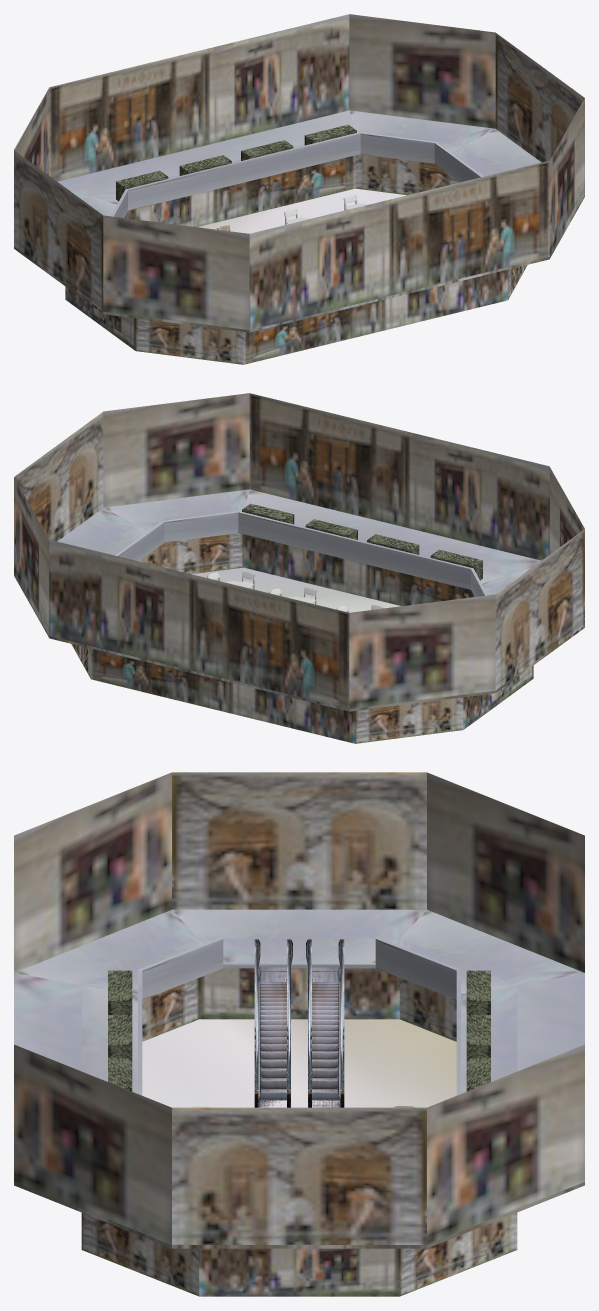
File: blartmall.fbx
3 renders of one model, top to bottom at view 1: azimuth 30°, elevation 25°; view 2: azimuth 150°, elevation 25°; view 3: azimuth 270°, elevation 25°, orthographic. The views are drawn at different scales.
Parts seen in each view (by area): view 1: Plane, Cube, Cube.007, Cube.001, Cube.004; view 2: Plane, Cube.005, Cube.006, Cube.002, Cube.003; view 3: Plane, Plane.002, Plane.001, Cube, Cube.005, Cube.001, Cube.002, Cube.003, Cube.004.
Part boxes in pixels (x1,y1,x2,y2): Plane: [14, 14, 584, 364]; Cube: [116, 170, 168, 201]; Cube.007: [304, 124, 356, 145]; Cube.001: [179, 155, 231, 175]; Cube.004: [241, 140, 293, 160]; Plane: [14, 393, 584, 743]; Cube.005: [430, 549, 482, 580]; Cube.006: [242, 503, 294, 524]; Cube.002: [367, 534, 419, 554]; Cube.003: [305, 519, 357, 539]; Plane: [14, 772, 584, 1296]; Plane.002: [306, 939, 344, 1107]; Plane.001: [254, 939, 292, 1107]; Cube: [466, 970, 490, 1014]; Cube.005: [108, 970, 132, 1014]; Cube.001: [466, 1015, 490, 1057]; Cube.002: [108, 1015, 132, 1057]; Cube.003: [108, 1057, 132, 1091]; Cube.004: [466, 1057, 490, 1091].
Size of the model in its own units: 296 by 90.52 by 213.
Materials: 4 (4 with a texture image).
